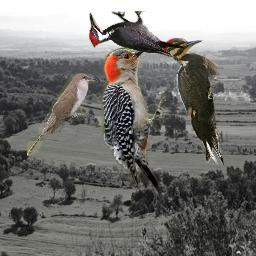Cuckoo: (27, 73, 98, 156)
Woodpecker: (96, 38, 166, 206), (160, 37, 225, 166), (89, 11, 184, 57)
